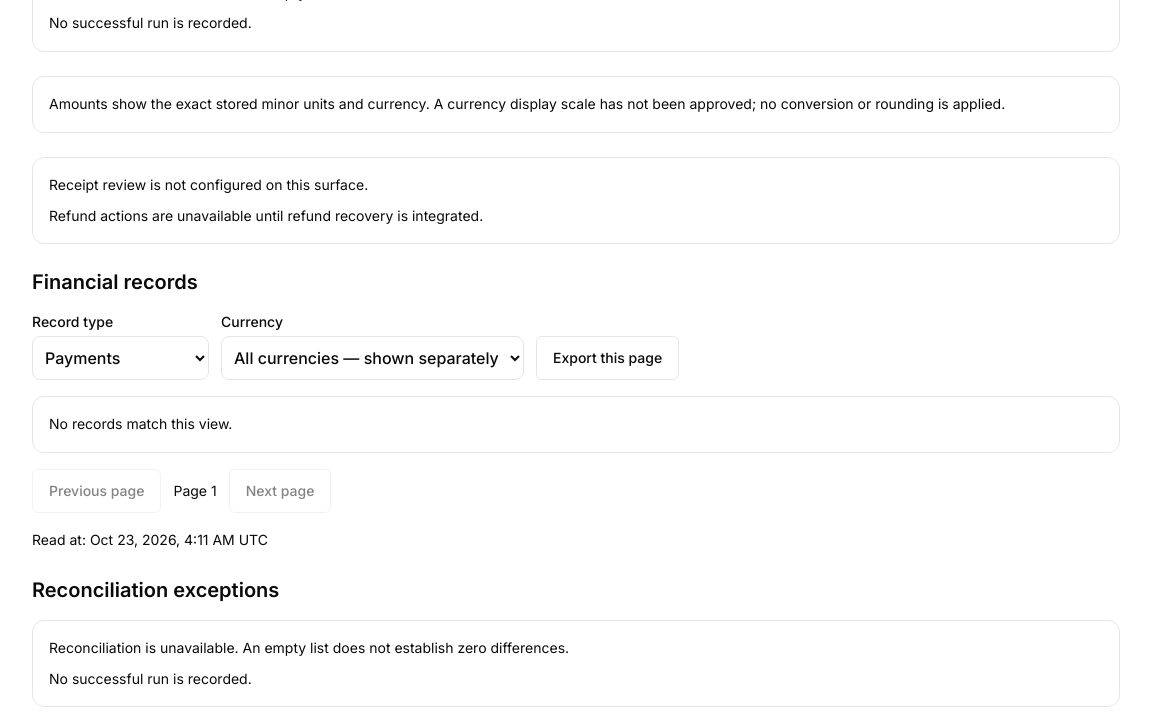
Test case: financial operations states and interactions › distinguishes a successful empty read from an unavailable settlement integration
(page scrolled)
Expected: the text "No records match this view." is shown, [32, 396, 1120, 453]
Select "Settlements" in the dropdown labelled "Record type": coordinates (120, 358) [32, 336, 209, 380]
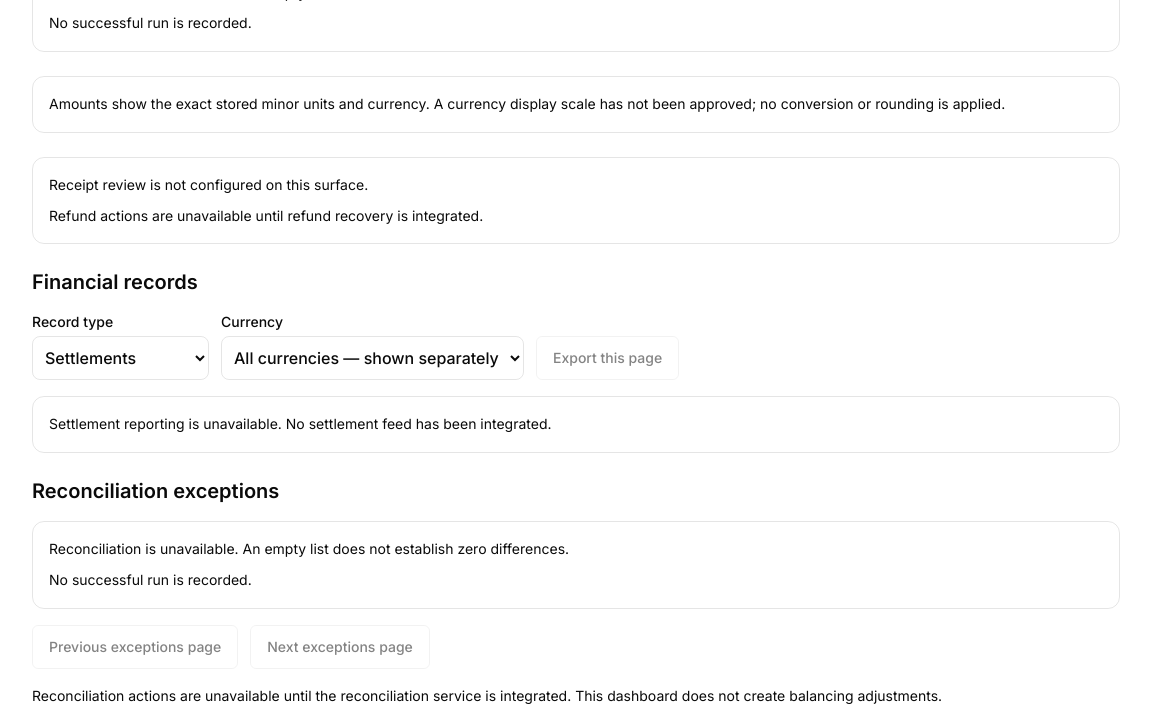
Result: the text "Settlement reporting is unavailable. No settlement feed has been integrated." is shown at [32, 396, 1120, 453]
Result: the text "No records match this view." is gone
Result: the button "Export this page" is disabled at [536, 336, 679, 380]
